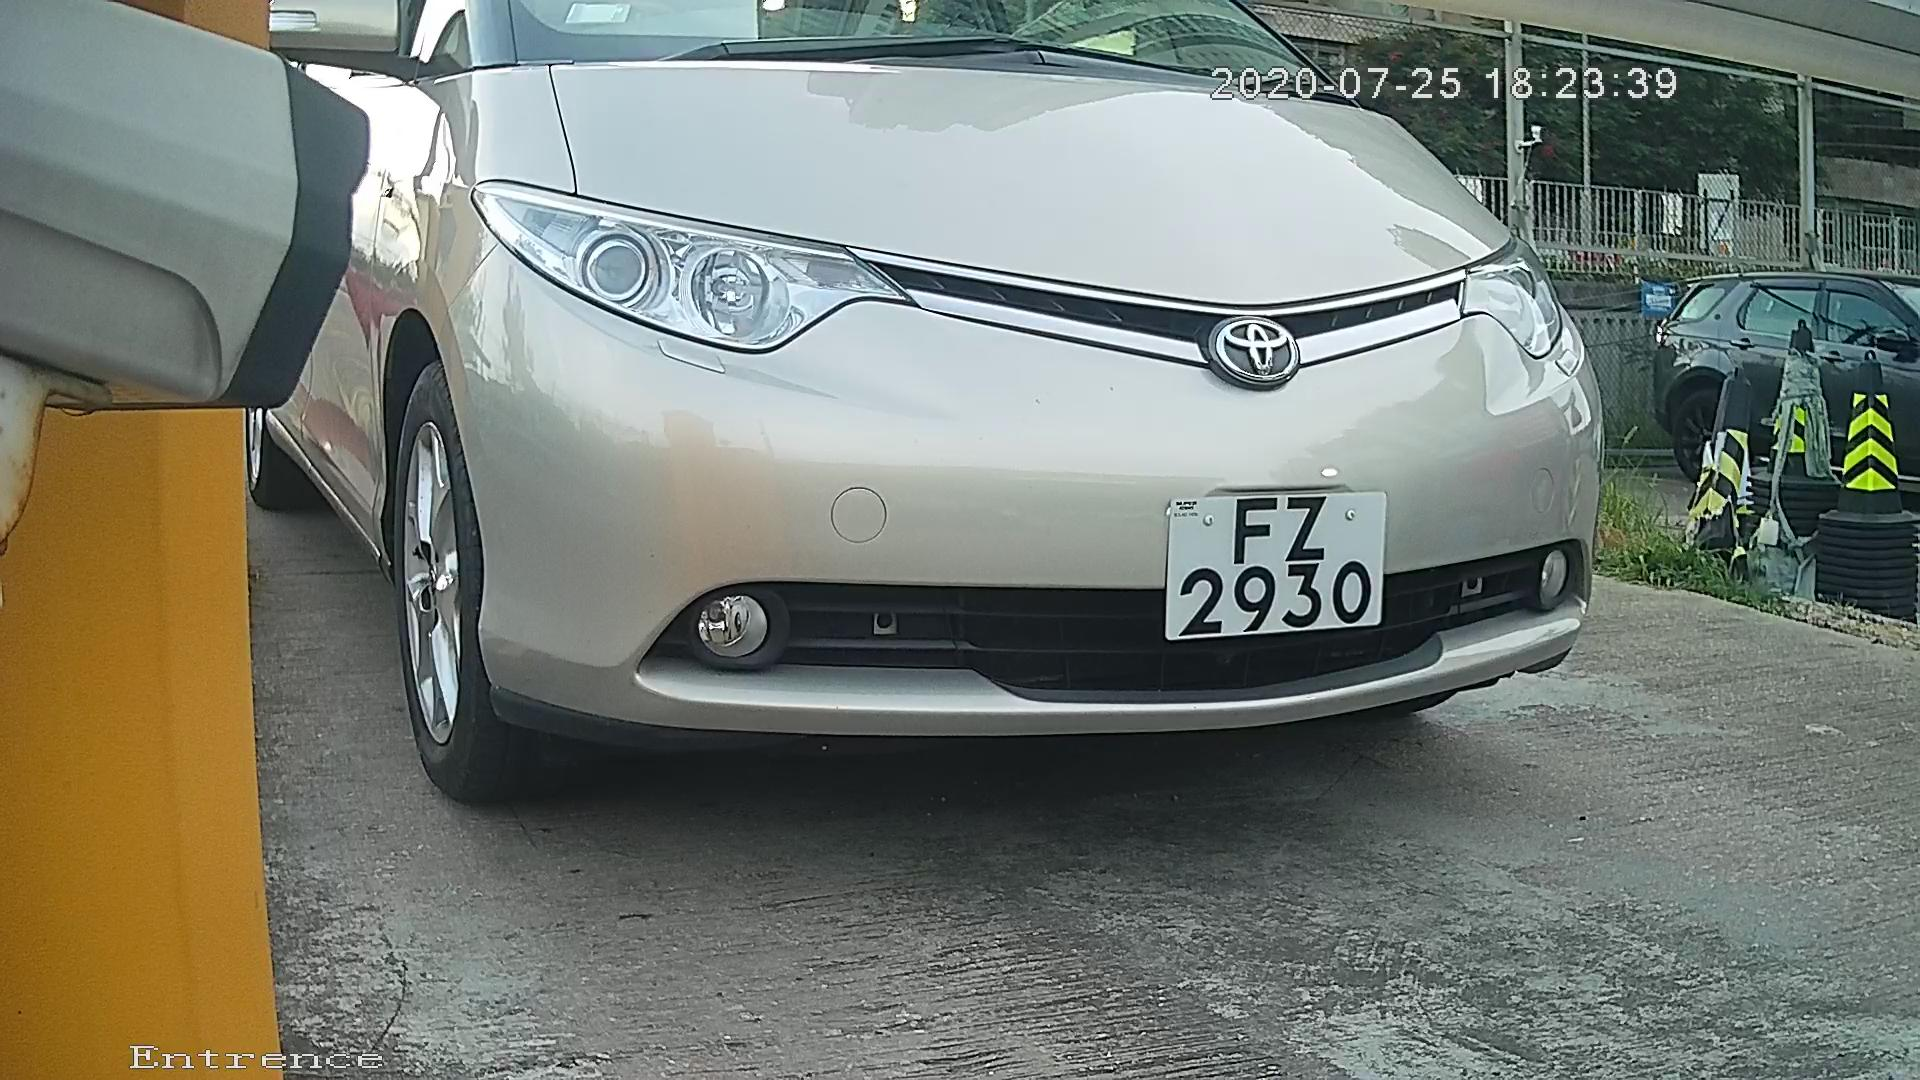License Plate: (1141, 468, 1406, 661)
